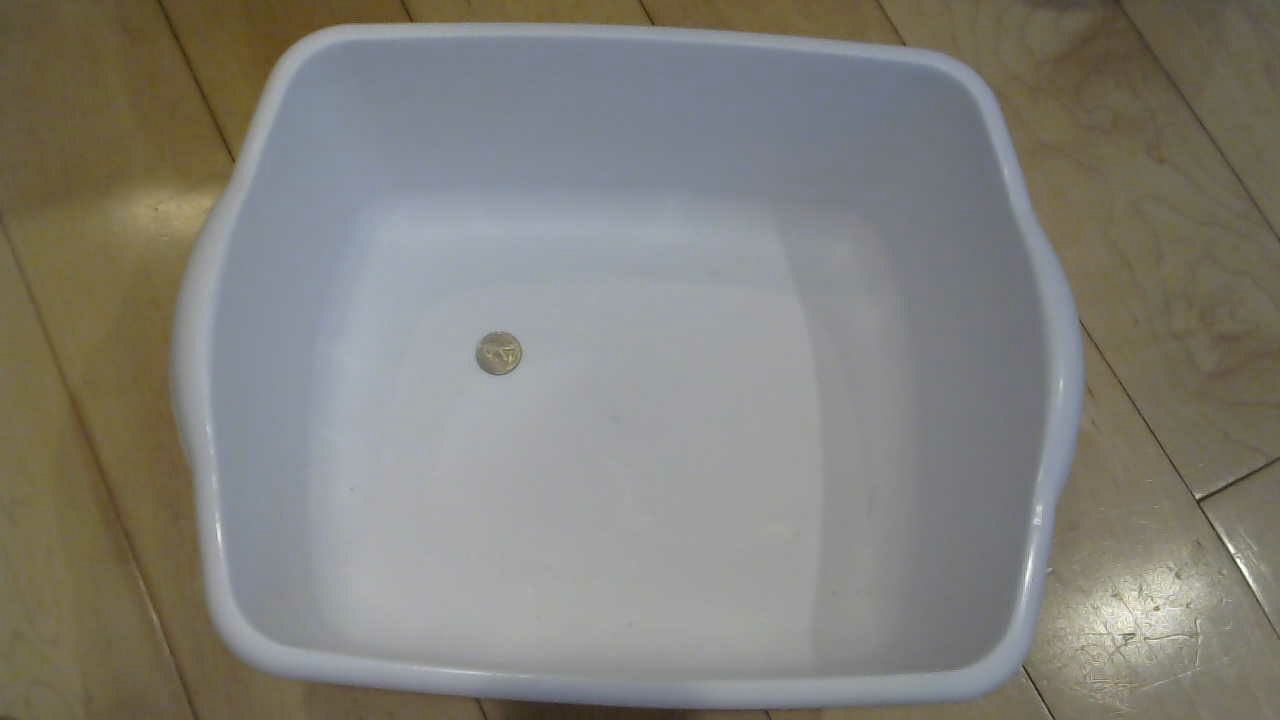coin: (472, 333, 536, 392)
